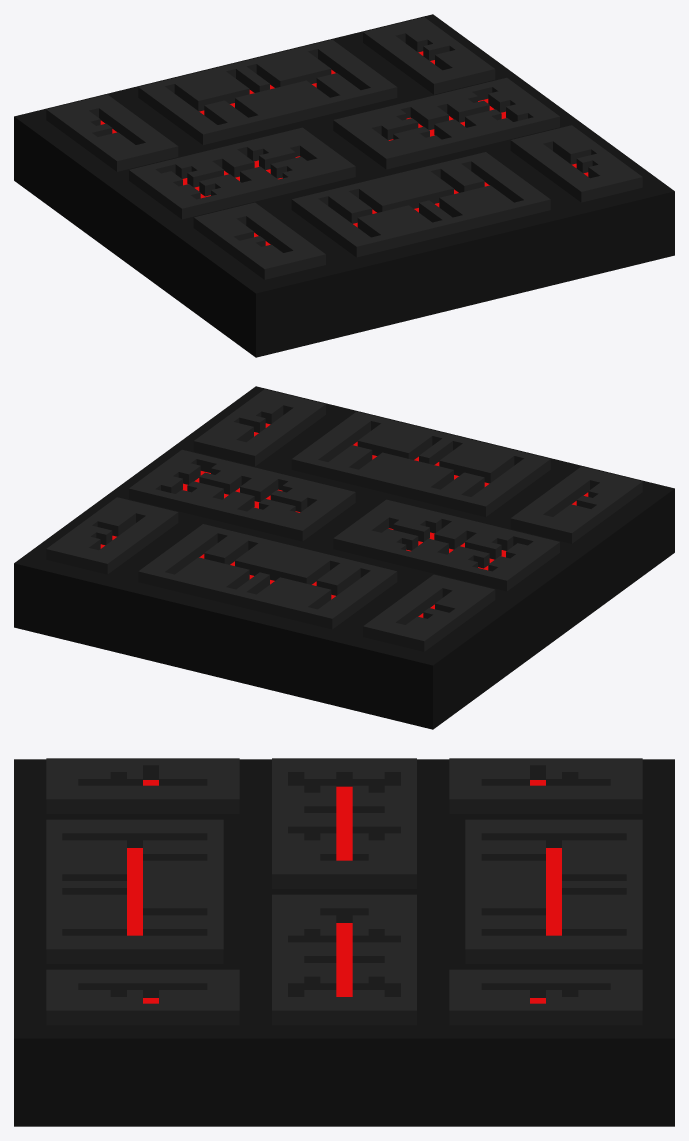
The model's file is RuneFloor2.obj.
3 views of the same model, one above another, from view 1: azimuth 30°, elevation 25°; view 2: azimuth 150°, elevation 25°; view 3: azimuth 270°, elevation 25° (orthographic). The views are drawn at different scales.
Size of the model in its own units: 41 by 7 by 41.
1 material, 1 textured.
